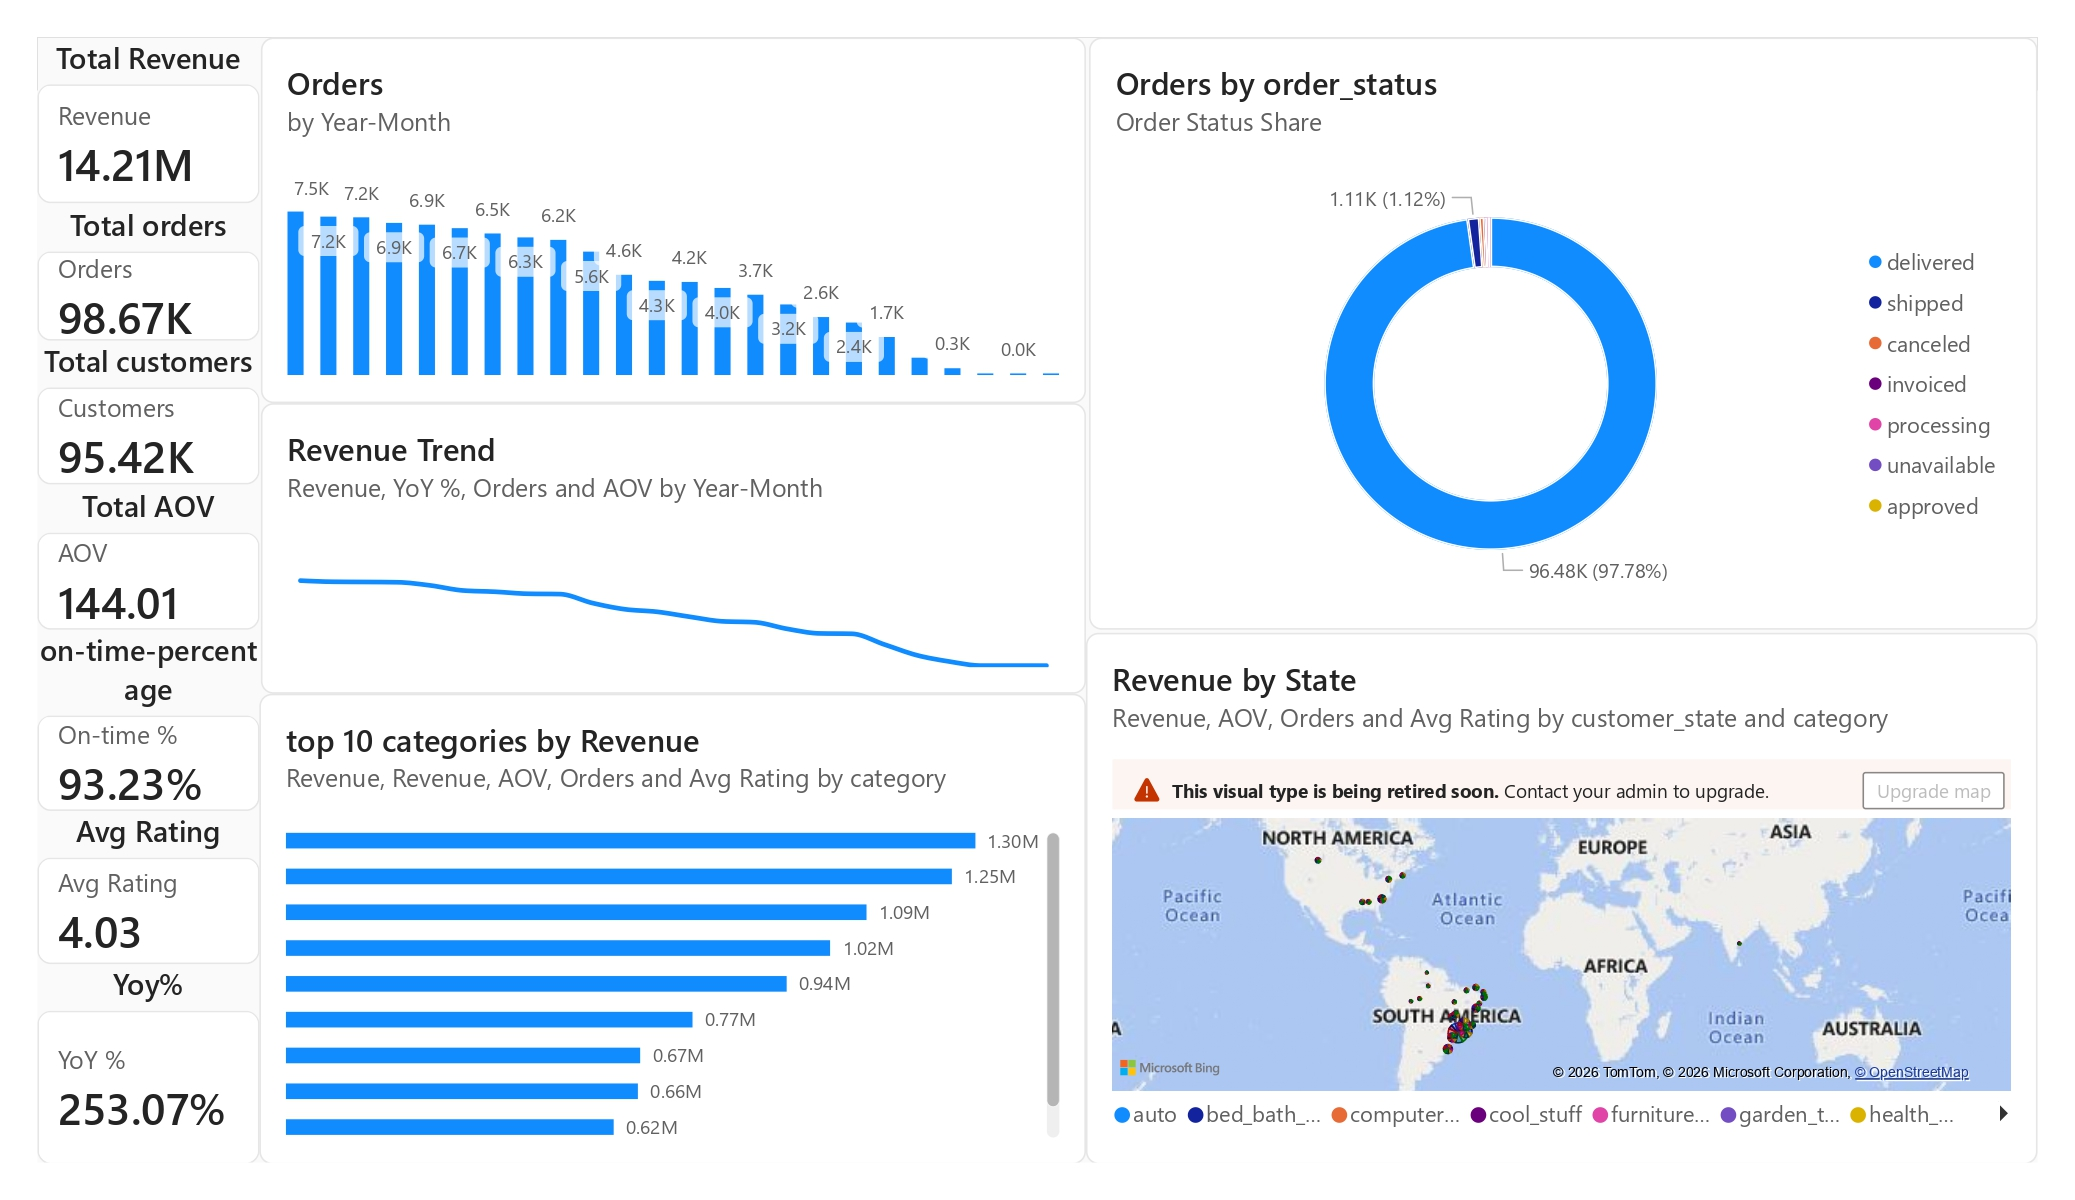

The page's visual inventory and layout, read from the dashboard file:
{"tool":"powerbi","page":{"name":"Overview(Executive Dashboard)","canvas":[1280,720],"ordinal":0},"visuals":[{"type":"cardVisual","title":"Total Revenue","fields":{"Data":["public bi_fact_sales.Revenue"]},"box":[0,0,142.4,106.8],"z":0},{"type":"cardVisual","title":"Total orders","fields":{"Data":["public bi_fact_sales.Orders"]},"box":[0,106.8,142.4,87.2],"z":1000},{"type":"cardVisual","title":"Total customers","fields":{"Data":["public bi_fact_sales.Customers"]},"box":[0,194,142.4,92.5],"z":2000},{"type":"cardVisual","title":"Total AOV","fields":{"Data":["public bi_fact_sales.AOV"]},"box":[0,286.5,142.4,92.5],"z":3000},{"type":"cardVisual","title":"on-time-percentage","fields":{"Data":["public bi_fact_sales.On-time %"]},"box":[0,379.1,142.4,115.7],"z":4000},{"type":"cardVisual","title":"Avg Rating","fields":{"Data":["public bi_fact_sales.Avg Rating"]},"box":[0,494.8,142.4,97.9],"z":5000},{"type":"cardVisual","title":"Yoy%","fields":{"Data":["public bi_fact_sales.YoY %"]},"box":[0,592.7,142.4,128.1],"z":6000},{"type":"lineChart","title":"Revenue Trend","fields":{"Category":["DimDate.Year-Month"],"Y":["public bi_fact_sales.Revenue"]},"box":[142.9,234.3,528.6,185.7],"z":7000},{"type":"lineClusteredColumnComboChart","fields":{"Category":["DimDate.Year-Month"],"Y":["public bi_fact_sales.Orders"]},"box":[142.9,0,528.6,234.3],"z":8000},{"type":"barChart","title":"top 10 categories by Revenue","fields":{"Category":["public bi_fact_sales.category"],"Y":["public bi_fact_sales.Revenue"]},"box":[142.4,420,528.6,300.8],"z":9000},{"type":"map","title":"Revenue by State","fields":{"Category":["public bi_fact_sales.customer_state"],"Series":["public bi_fact_sales.category"],"Size":["public bi_fact_sales.Revenue"]},"box":[671,380.9,608.7,339.9],"z":10000},{"type":"donutChart","fields":{"Category":["public bi_fact_sales.order_status"],"Y":["public bi_fact_sales.Orders"]},"box":[672.8,0,606.9,379.1],"z":11000}]}

Visuals, with their boxes on the page's 1280x720 design canvas (x1, y1, x2, y2). These are canvas units, not pixel positions in the 2075x1200 screenshot, which may show the page scaled, cropped or inside an application window:
"Total Revenue" cardVisual: [x1=0, y1=0, x2=142, y2=107]
"Total orders" cardVisual: [x1=0, y1=107, x2=142, y2=194]
"Total customers" cardVisual: [x1=0, y1=194, x2=142, y2=286]
"Total AOV" cardVisual: [x1=0, y1=286, x2=142, y2=379]
"on-time-percentage" cardVisual: [x1=0, y1=379, x2=142, y2=495]
"Avg Rating" cardVisual: [x1=0, y1=495, x2=142, y2=593]
"Yoy%" cardVisual: [x1=0, y1=593, x2=142, y2=721]
"Revenue Trend" lineChart: [x1=143, y1=234, x2=672, y2=420]
lineClusteredColumnComboChart - DimDate.Year-Month x public bi_fact_sales.Orders: [x1=143, y1=0, x2=672, y2=234]
"top 10 categories by Revenue" barChart: [x1=142, y1=420, x2=671, y2=721]
"Revenue by State" map: [x1=671, y1=381, x2=1280, y2=721]
donutChart - public bi_fact_sales.order_status x public bi_fact_sales.Orders: [x1=673, y1=0, x2=1280, y2=379]
